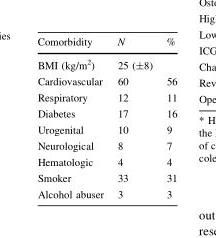table: (36, 36, 176, 199)
table column: (36, 36, 109, 199), (109, 36, 158, 199), (158, 36, 176, 199)
table column header: (36, 36, 176, 52)
table row: (36, 52, 176, 73), (36, 137, 176, 154), (36, 36, 176, 52), (36, 73, 176, 89), (36, 89, 176, 105), (36, 105, 176, 121), (36, 121, 176, 137), (36, 154, 176, 170), (36, 170, 176, 186), (36, 186, 176, 199)
